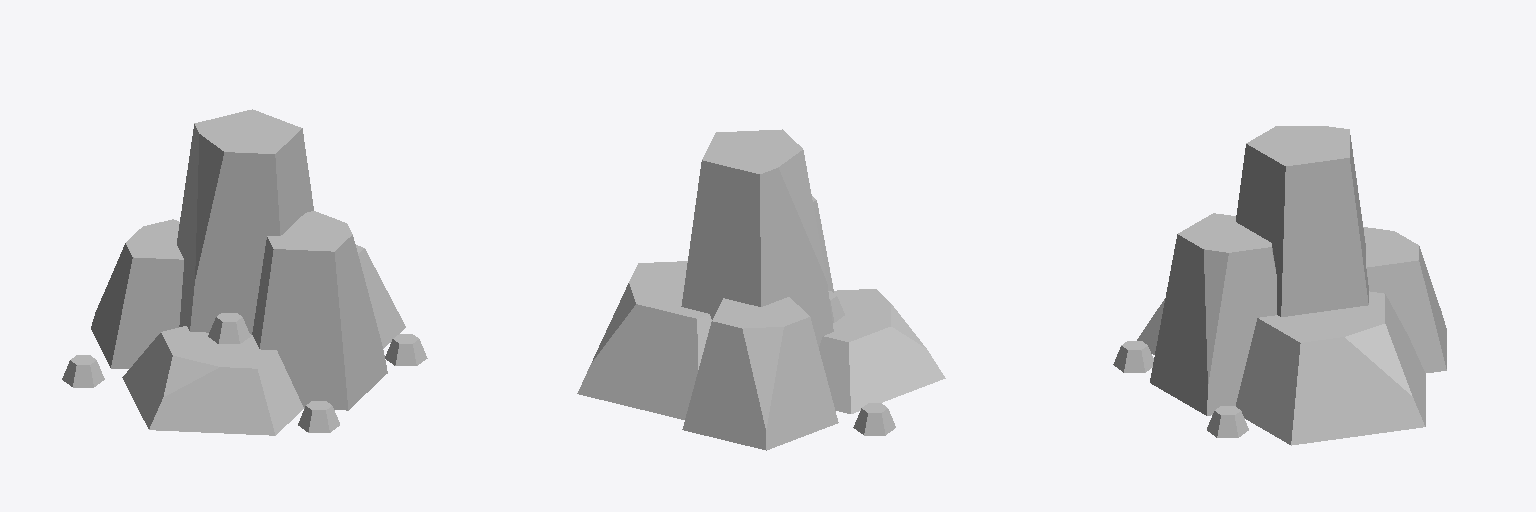
Rendered from rock-large.obj.
3 views of the same model, side by side, from view 1: azimuth 30°, elevation 25°; view 2: azimuth 150°, elevation 25°; view 3: azimuth 270°, elevation 25° (orthographic).
Visible parts, largest first — view 1: rock-large; view 2: rock-large; view 3: rock-large.
Part boxes in pixels (x1,y1,x2,y2): rock-large: (62,109,427,435); rock-large: (577,129,945,450); rock-large: (1113,126,1446,445).
Size of the model in its own units: 1.67 by 1.16 by 1.55.